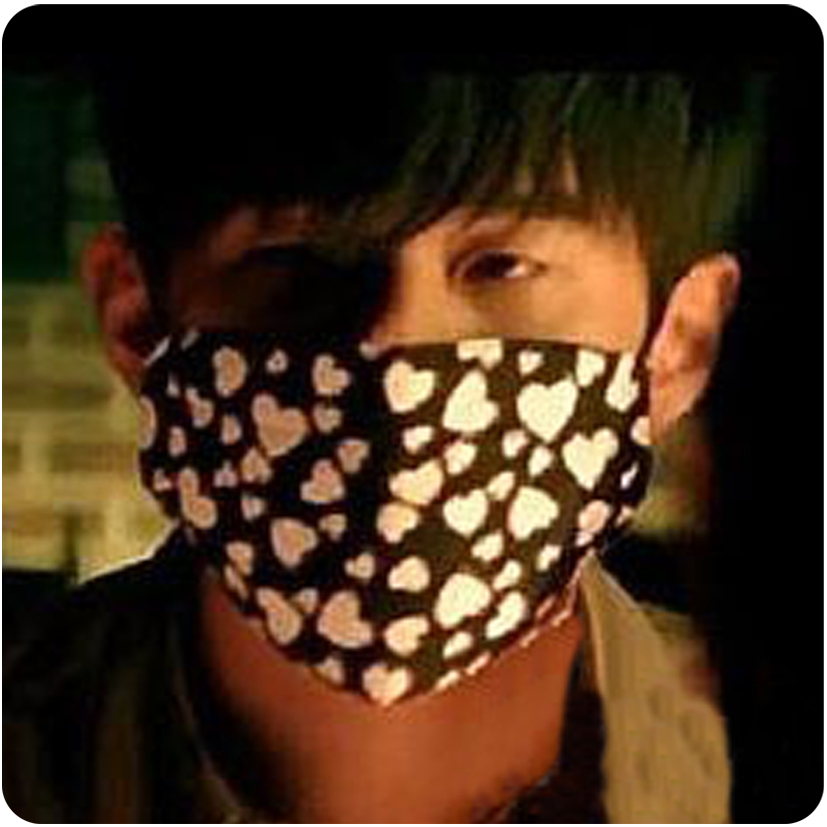face_mask: (158, 30, 640, 723)
